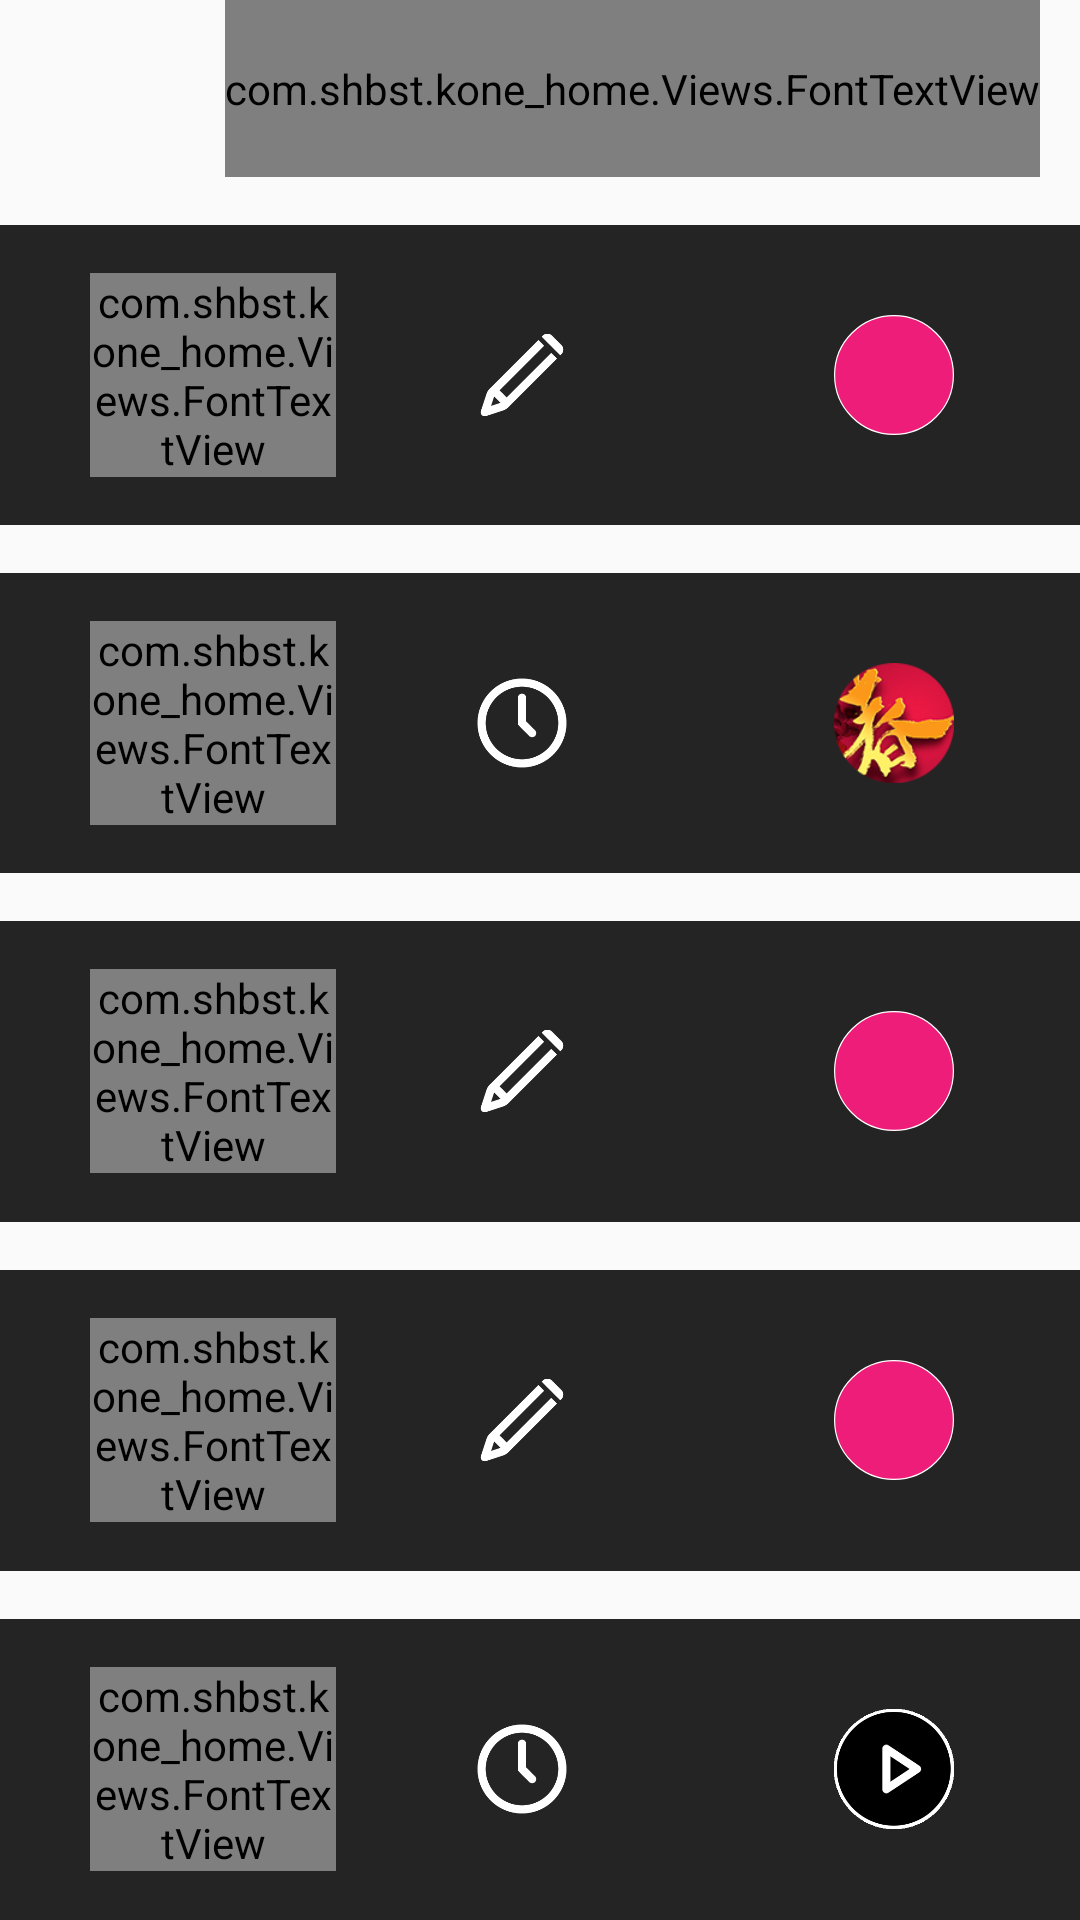

Where icons sit on this 1080x1920 app screen, as box=[x1, y1, x2, y2]:
edit: box=[480, 334, 564, 416], box=[480, 1030, 564, 1112], box=[480, 1379, 564, 1461]
play: box=[834, 1709, 954, 1829]
time: box=[477, 678, 567, 768], box=[477, 1724, 567, 1814]
